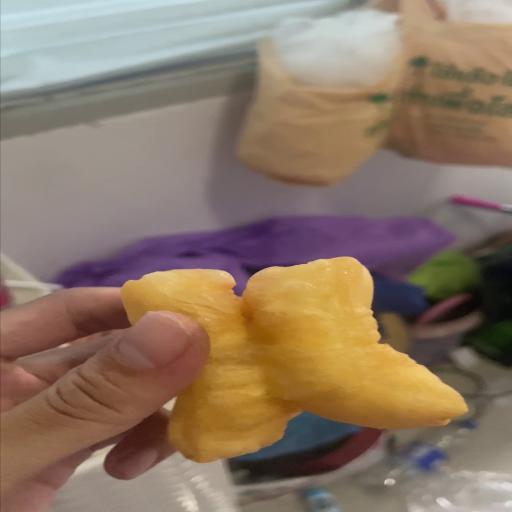street_golden_good: (126, 258, 467, 463)
